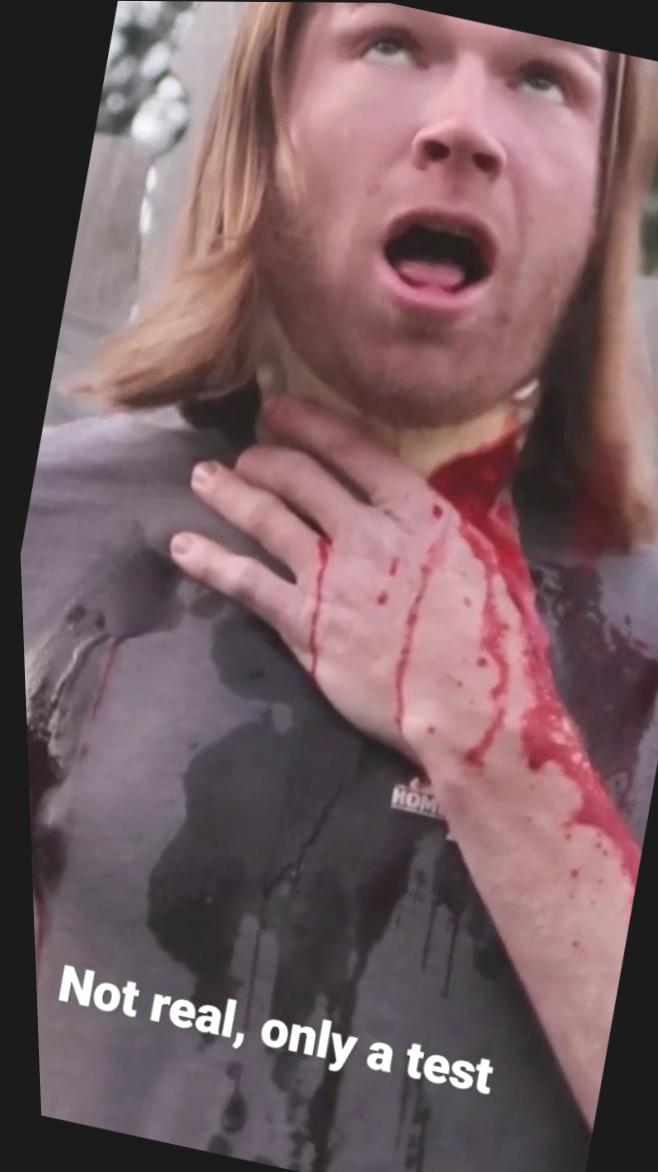Fire: (286, 436, 658, 909)
